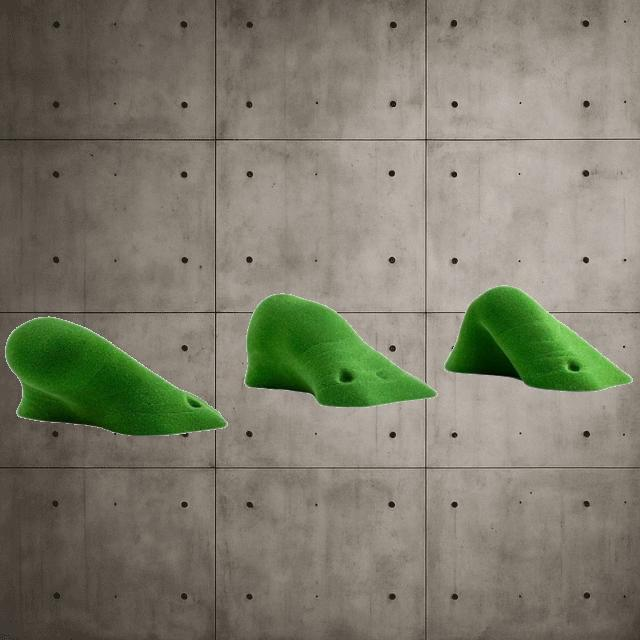Jug: (4, 315, 228, 437), (243, 292, 437, 408), (443, 284, 632, 392)
